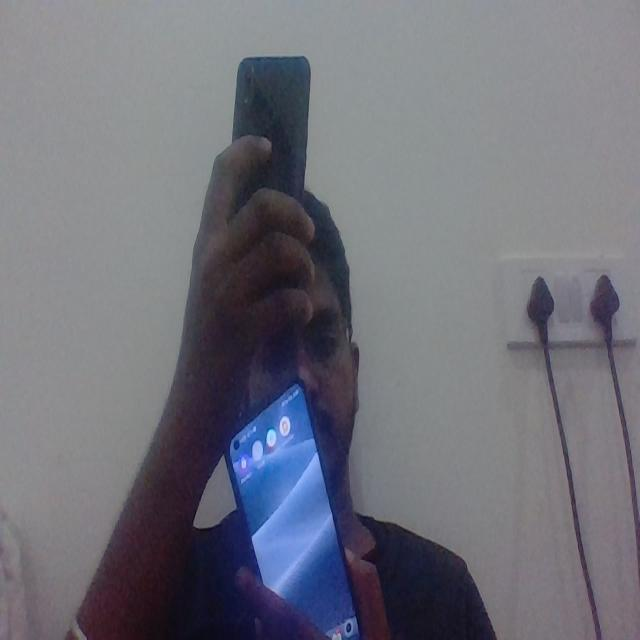Phone: (224, 379, 365, 640), (228, 58, 314, 211)
